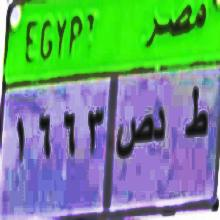1: (12, 116, 29, 163)
3: (85, 107, 106, 161)
6: (38, 108, 53, 164), (63, 104, 76, 160)
Taa: (181, 81, 210, 148)
daal: (153, 103, 168, 149)
saad: (117, 110, 153, 164)
